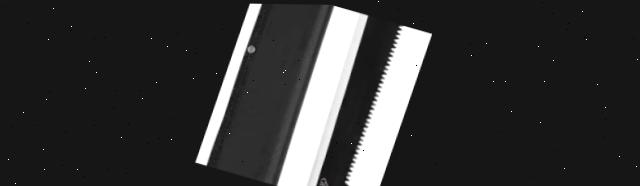long knife: (293, 9, 411, 186)
